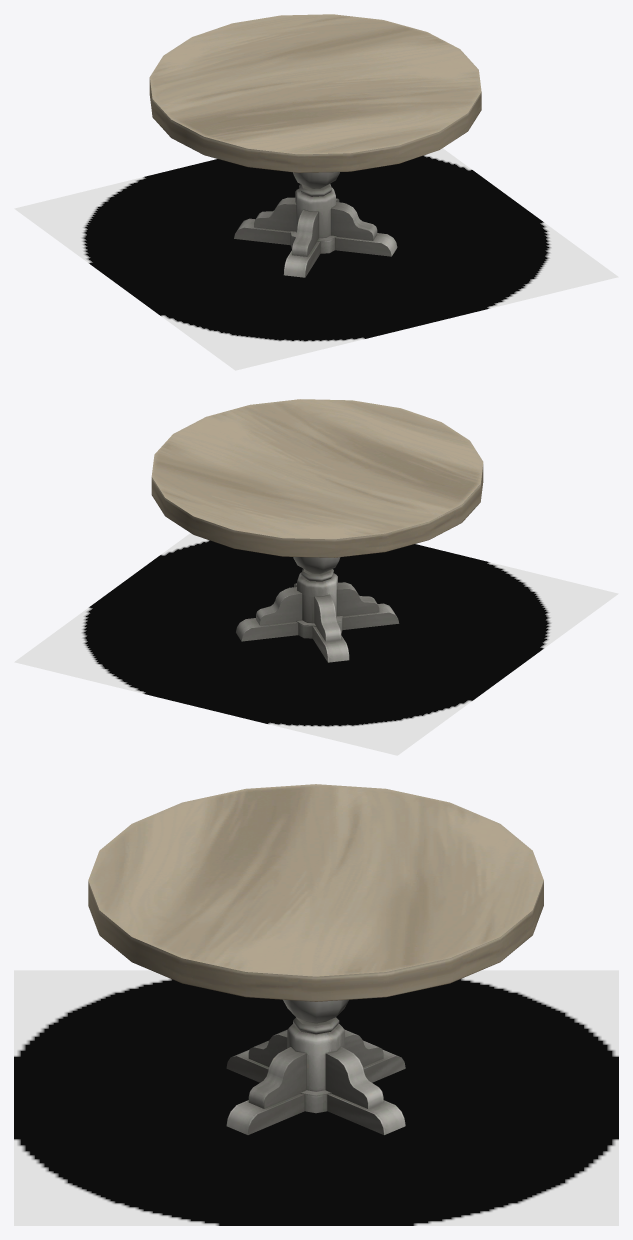
The model's file is jj_ty_table08_01.FBX.
3 renders of one model, top to bottom at view 1: azimuth 30°, elevation 25°; view 2: azimuth 150°, elevation 25°; view 3: azimuth 270°, elevation 25°, orthographic. The views are drawn at different scales.
Visible parts, largest first — view 1: shadow, jj_ty_table08_01; view 2: shadow, jj_ty_table08_01; view 3: shadow, jj_ty_table08_01.
Part boxes in pixels (left/top/right/bottom): shadow: left=14, top=148, right=618, bottom=370; jj_ty_table08_01: left=149, top=14, right=481, bottom=277; shadow: left=14, top=533, right=618, bottom=755; jj_ty_table08_01: left=151, top=399, right=483, bottom=662; shadow: left=14, top=970, right=618, bottom=1225; jj_ty_table08_01: left=88, top=784, right=543, bottom=1135.
Bounding box in the file's own units: 68.9 × 27.76 × 68.9.
